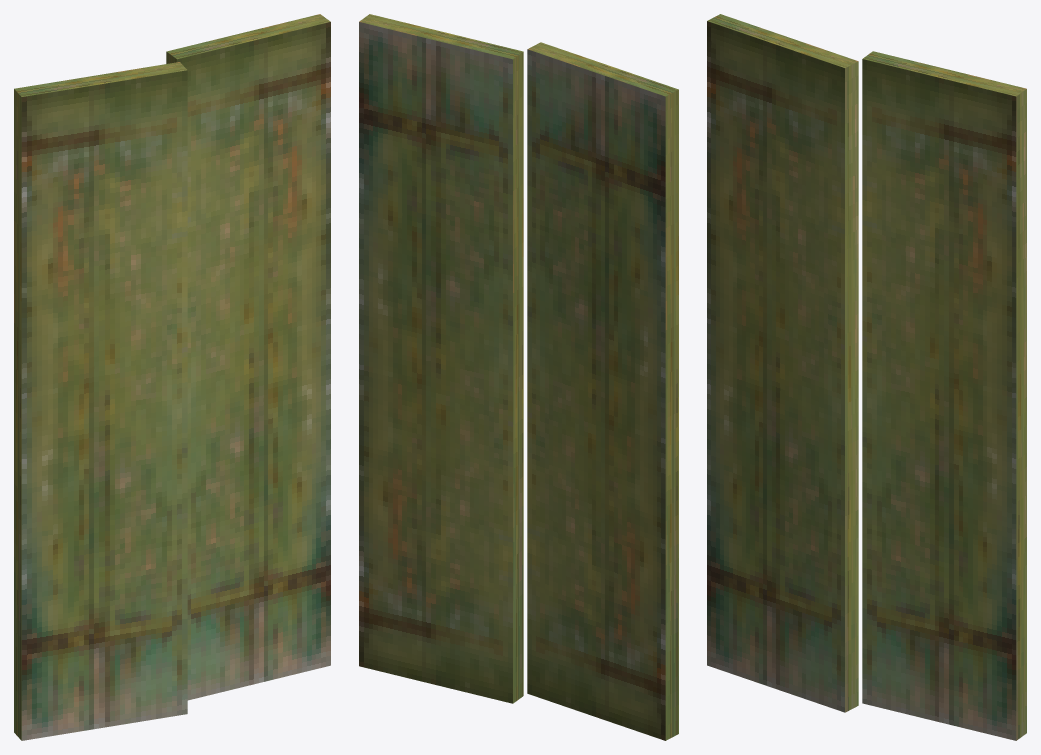
File: shutters_single_closed_01.glb
The picture shows the model from 3 angles, left to right: view 1: azimuth 30°, elevation 25°; view 2: azimuth 150°, elevation 25°; view 3: azimuth 330°, elevation 25°; orthographic projection.
Visible parts, largest first — view 1: shutters_single_closed_012; view 2: shutters_single_closed_012; view 3: shutters_single_closed_012.
Boxes of the visible parts, left/top/right/bottom form: shutters_single_closed_012: left=14, top=14, right=330, bottom=740; shutters_single_closed_012: left=359, top=14, right=678, bottom=740; shutters_single_closed_012: left=707, top=14, right=1026, bottom=740.
Size of the model in its own units: 1 by 2 by 0.1379.
1 material, 1 textured.
